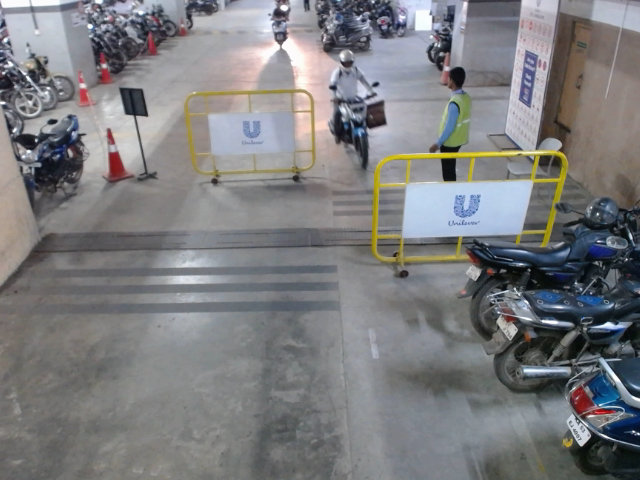with_helmet: (337, 49, 354, 71)
